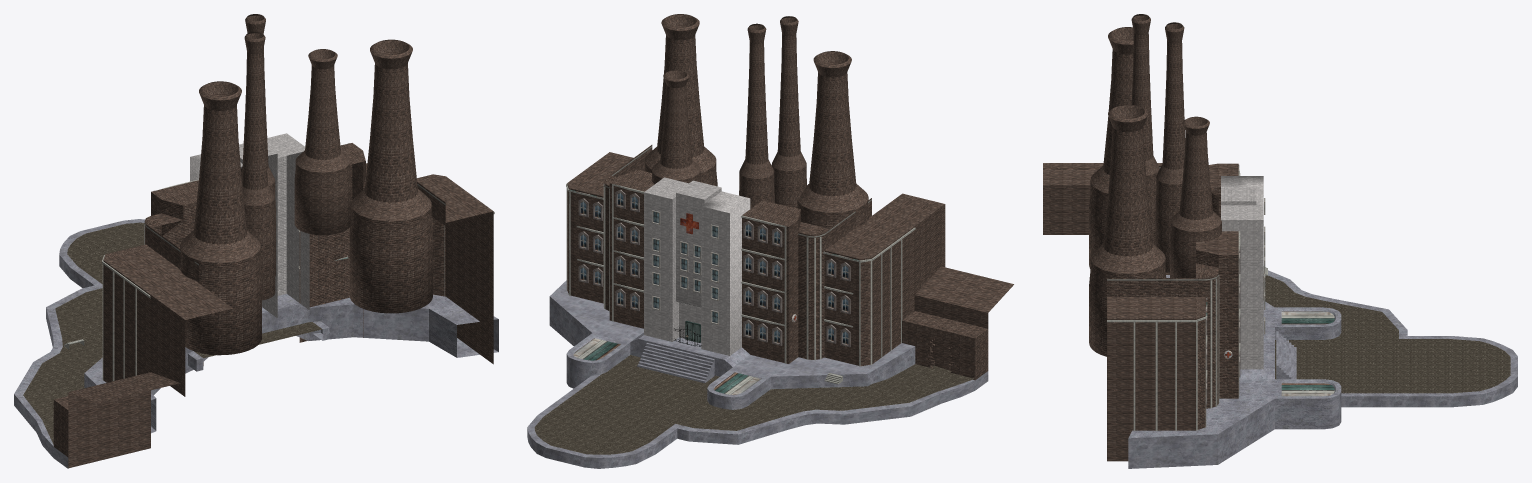
The model's file is building_hospital.fbx.
3 renders of one model, left to right at view 1: azimuth 30°, elevation 25°; view 2: azimuth 150°, elevation 25°; view 3: azimuth 270°, elevation 25°, orthographic. The views are drawn at different scales.
Visible parts, largest first — view 1: Brick_wall_window.010, Cylinder.001, Cylinder.003, Brick_wall_window.002, Plane.010, Cube, Cylinder, Cylinder.002, Brick_wall_arch_DOOR.002, Cylinder.004, brick_wall_damagedl.001; view 2: Brick_wall_window.010, Plane.010, Brick_wall_arch_DOOR.002, Cube, Brick_wall_window.002, Cylinder.003, Cylinder.001, Cylinder.002, Cylinder.004, brick_wall_damagedl.001, Cylinder; view 3: Brick_wall_window.002, Plane.010, Cube, Cylinder.001, Brick_wall_arch_DOOR.002, Cylinder, Cylinder.004, Brick_wall_window.010, Cylinder.003, Cylinder.002.
Boxes of the visible parts, <box> form: Brick_wall_window.010: <box>68,179,232,468</box>; Cylinder.001: <box>349,39,432,313</box>; Cylinder.003: <box>179,81,261,355</box>; Brick_wall_window.002: <box>298,143,494,364</box>; Plane.010: <box>14,219,329,468</box>; Cube: <box>84,294,498,433</box>; Cylinder: <box>294,49,351,235</box>; Cylinder.002: <box>242,31,275,300</box>; Brick_wall_arch_DOOR.002: <box>190,133,309,317</box>; Cylinder.004: <box>241,14,275,275</box>; brick_wall_damagedl.001: <box>53,396,68,456</box>; Brick_wall_window.010: <box>741,193,1013,371</box>; Plane.010: <box>527,355,988,468</box>; Brick_wall_arch_DOOR.002: <box>644,177,750,355</box>; Cube: <box>549,280,915,409</box>; Brick_wall_window.002: <box>566,145,654,328</box>; Cylinder.003: <box>797,51,868,228</box>; Cylinder.001: <box>644,14,717,186</box>; Cylinder.002: <box>771,16,806,207</box>; Cylinder.004: <box>739,23,774,208</box>; brick_wall_damagedl.001: <box>902,311,988,380</box>; Cylinder: <box>651,70,700,184</box>; Brick_wall_window.002: <box>1107,231,1240,461</box>; Plane.010: <box>1263,270,1517,407</box>; Cube: <box>1128,275,1341,468</box>; Cylinder.001: <box>1089,104,1166,356</box>; Brick_wall_arch_DOOR.002: <box>1221,176,1265,369</box>; Cylinder: <box>1170,116,1221,277</box>; Cylinder.004: <box>1155,22,1185,272</box>; Brick_wall_window.010: <box>1043,163,1240,274</box>; Cylinder.003: <box>1089,27,1133,268</box>; Cylinder.002: <box>1131,14,1159,245</box>.
Bounding box in the file's own units: 5492 × 5490 × 4392.
